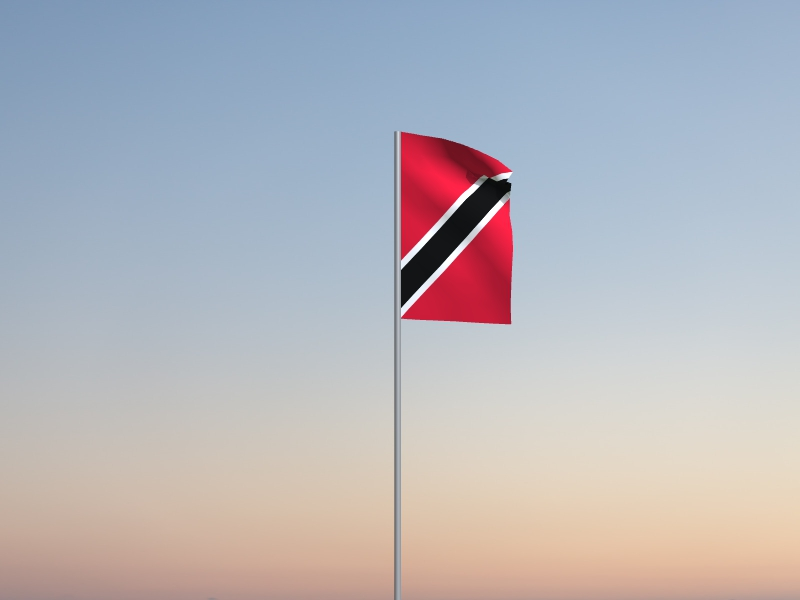tt: (401, 132, 514, 326)
